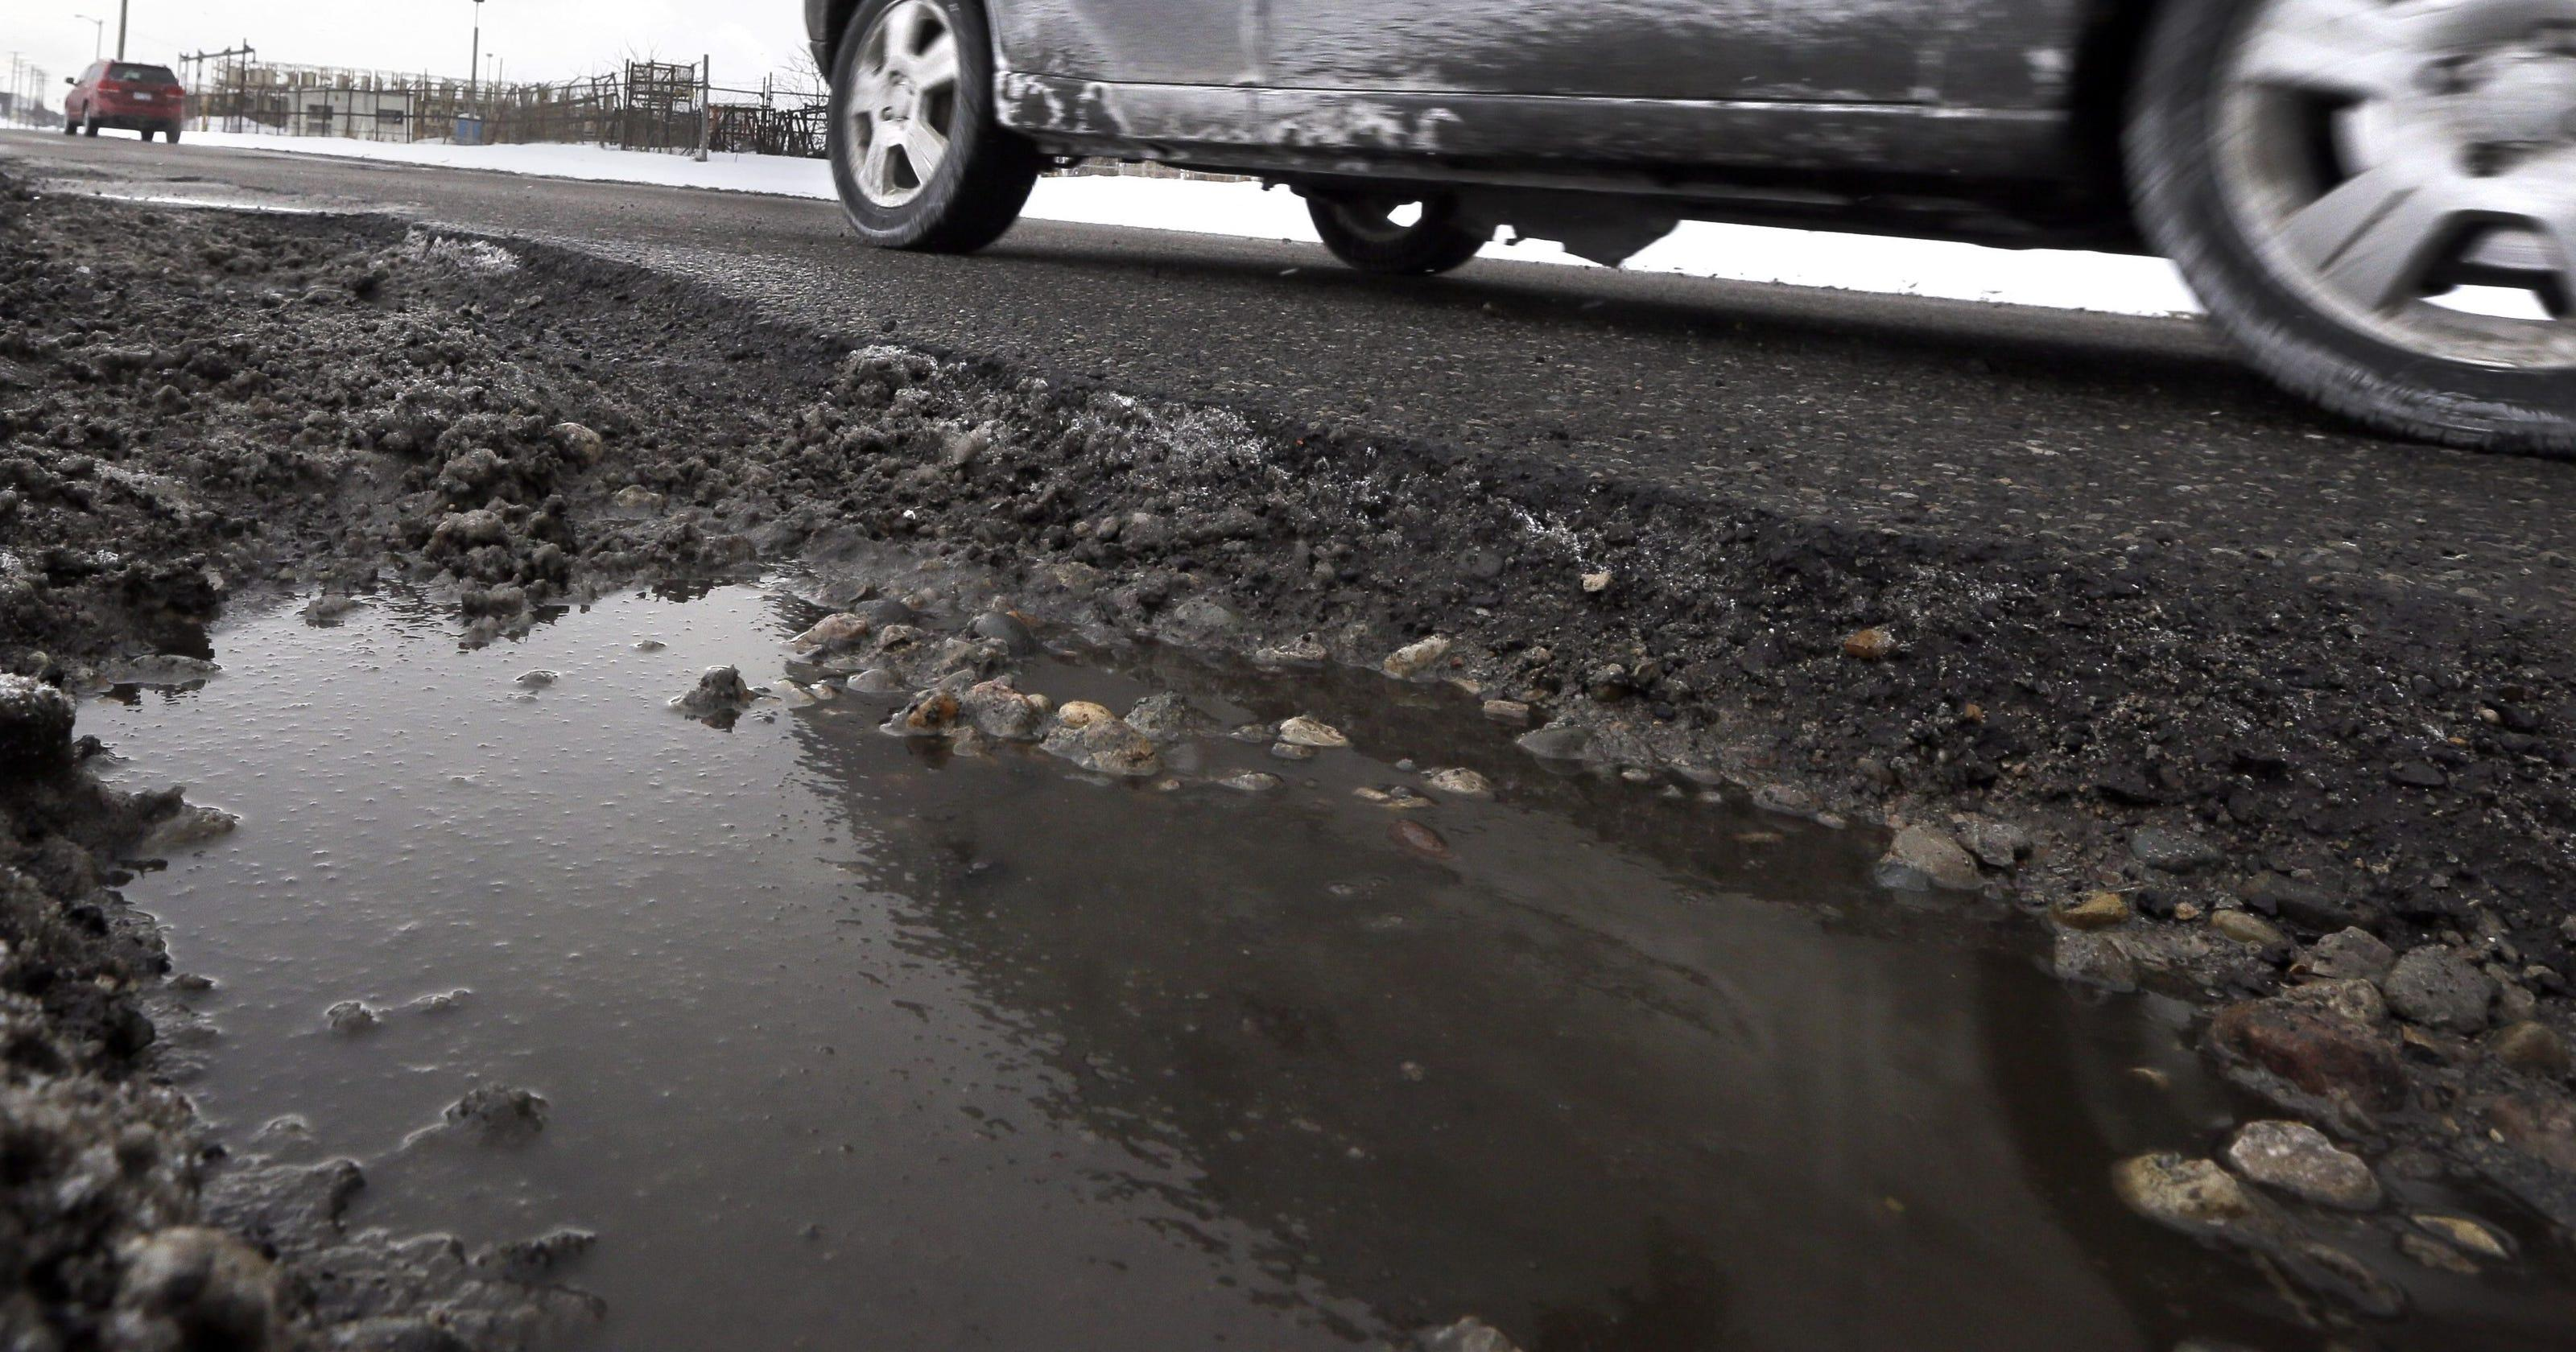Pothole: (27, 305, 2080, 1342)
